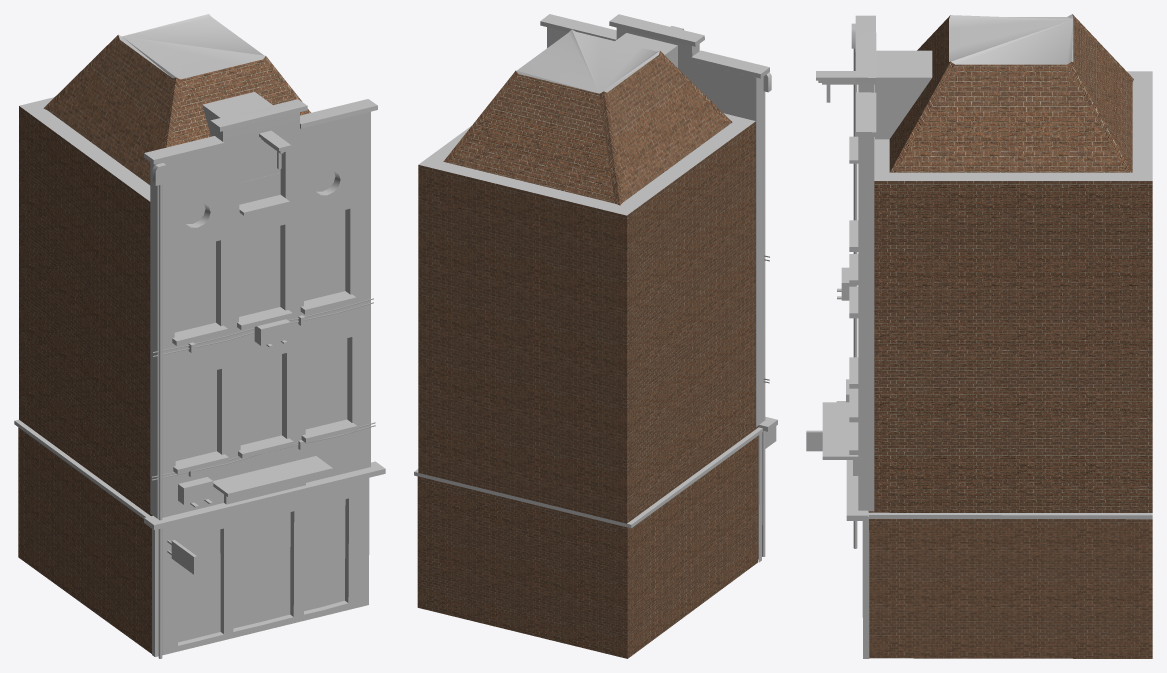
File: ams_house6.fbx
3 views of the same model, side by side, from view 1: azimuth 30°, elevation 25°; view 2: azimuth 150°, elevation 25°; view 3: azimuth 270°, elevation 25° (orthographic). The views are drawn at different scales.
Parts seen in each view (by area): view 1: Default_Layer; view 2: Default_Layer; view 3: Default_Layer.
Part boxes in pixels (x1,y1,x2,y2): Default_Layer: [14, 14, 385, 658]; Default_Layer: [414, 14, 777, 658]; Default_Layer: [806, 14, 1152, 658].
Bounding box in the file's own units: 451 × 996 × 552.
